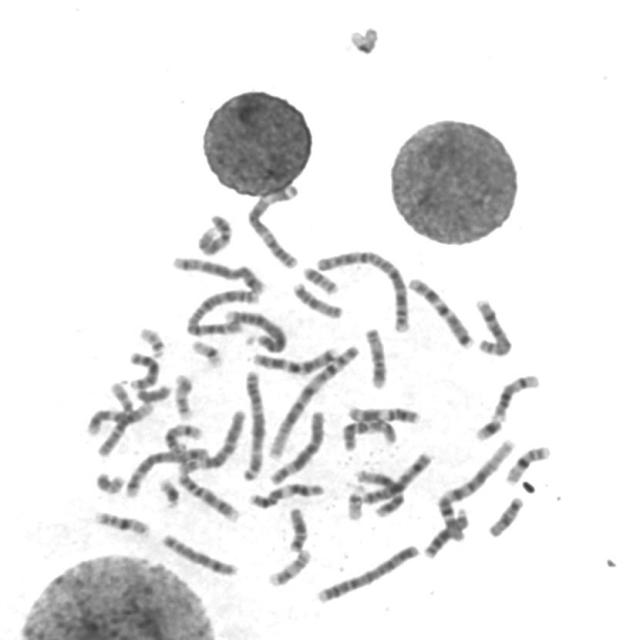A1: (264, 339, 362, 463), (434, 435, 519, 543)
A2: (312, 244, 414, 334), (182, 285, 264, 337)
A3: (243, 179, 303, 270), (238, 365, 269, 482)
B4: (313, 540, 423, 605), (221, 305, 289, 354)
B5: (122, 442, 212, 498), (168, 251, 268, 295)
C10: (94, 378, 136, 458), (339, 411, 400, 453)
C11: (245, 478, 327, 510), (344, 402, 423, 425)
C12: (83, 396, 157, 436), (353, 465, 407, 518)
C6: (174, 405, 248, 474), (266, 406, 328, 486)
C7: (405, 272, 477, 350), (249, 342, 342, 375)
C8: (158, 529, 242, 578), (470, 294, 515, 358)
C9: (174, 468, 242, 524), (195, 214, 238, 255)
D13: (421, 504, 473, 560), (125, 347, 162, 391)
D14: (489, 369, 543, 422), (161, 420, 205, 456)
D15: (289, 277, 346, 320), (362, 322, 390, 390)
E16: (502, 441, 554, 486), (90, 507, 153, 538)
E17: (264, 545, 314, 588), (170, 369, 198, 422)
E18: (485, 492, 527, 538), (284, 502, 311, 554)
F19: (187, 334, 226, 369), (344, 21, 382, 55)
F20: (298, 261, 342, 296), (91, 467, 128, 496)
G21: (472, 413, 507, 442), (155, 474, 183, 509)
G22: (135, 322, 169, 359), (343, 480, 368, 522)
Y: (132, 379, 174, 404)
